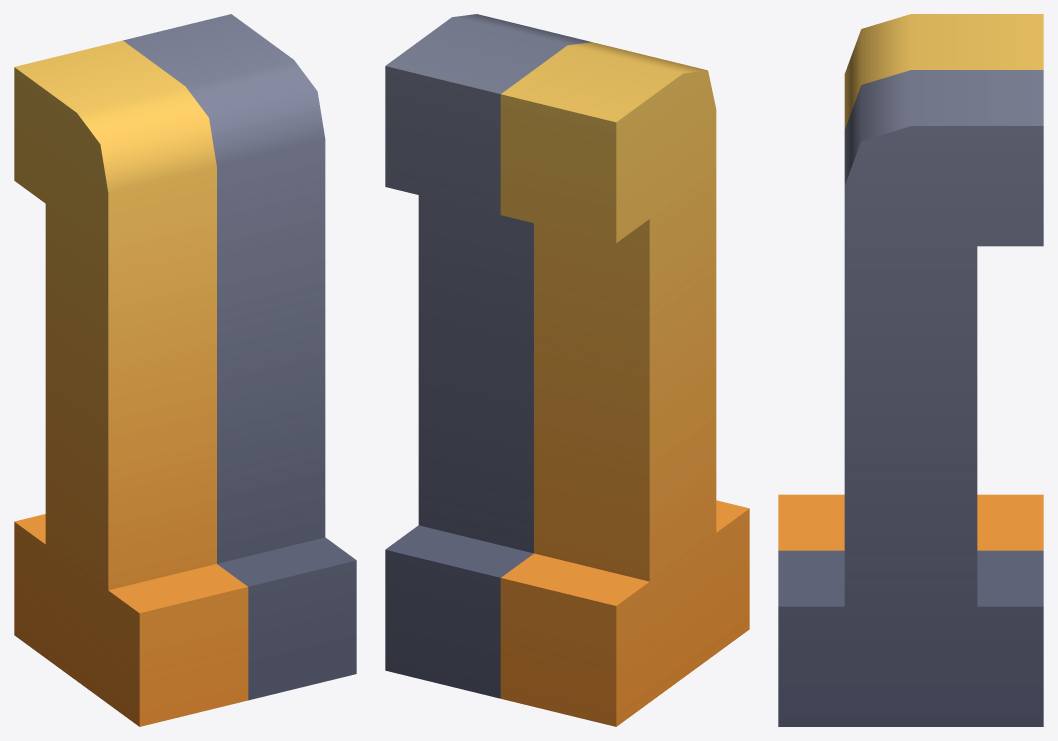
Rendered from number-double-1.fbx.
3 views of the same model, side by side, from view 1: azimuth 30°, elevation 25°; view 2: azimuth 150°, elevation 25°; view 3: azimuth 270°, elevation 25° (orthographic). The views are drawn at different scales.
Parts seen in each view (by area): view 1: number-double-1; view 2: number-double-1; view 3: number-double-1.
Boxes of the visible parts, bbox=[...] form: number-double-1: bbox=[14, 14, 356, 726]; number-double-1: bbox=[385, 14, 749, 726]; number-double-1: bbox=[778, 14, 1043, 726].
Size of the model in its own units: 20 by 50 by 20.
